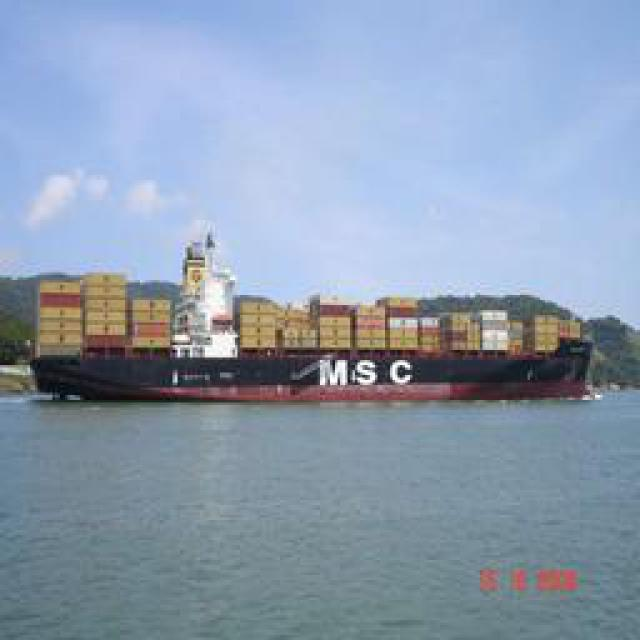Ship: (30, 346, 603, 404)
